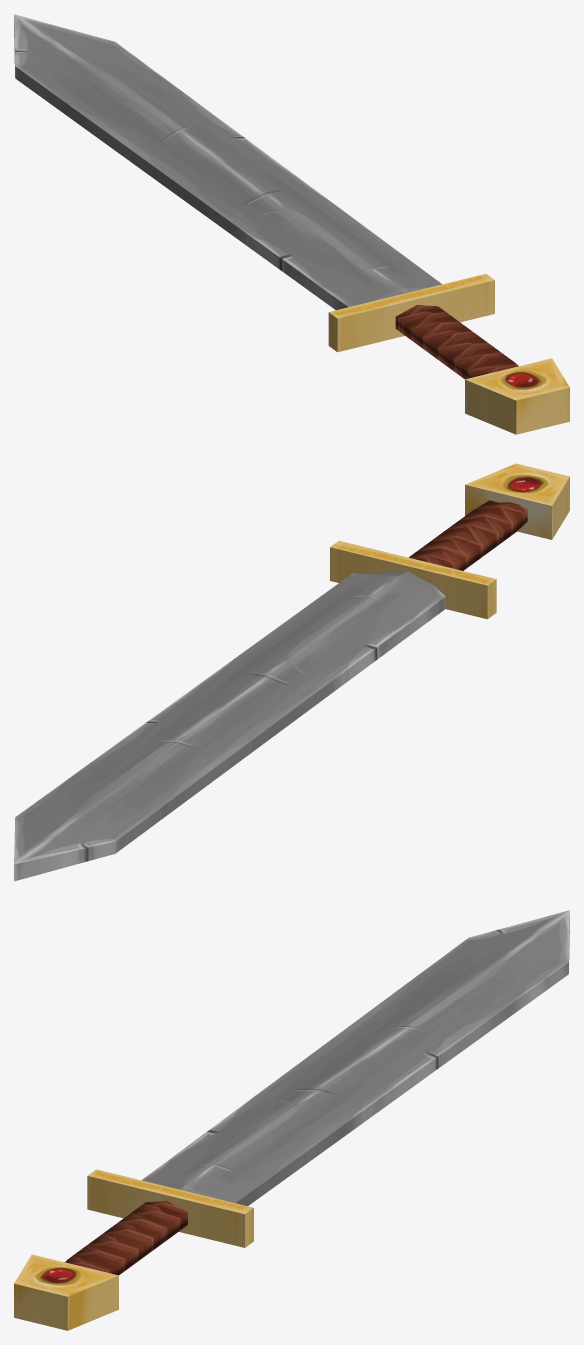
File: sword.fbx
3 views of the same model, one above another, from view 1: azimuth 30°, elevation 25°; view 2: azimuth 150°, elevation 25°; view 3: azimuth 330°, elevation 25° (orthographic).
Visible parts, largest first — view 1: sword; view 2: sword; view 3: sword.
Boxes of the visible parts, x1,y1,x2,y2 form: sword: [14, 14, 569, 434]; sword: [14, 463, 569, 881]; sword: [14, 910, 569, 1330].
Size of the model in its own units: 2.22 by 0.4937 by 12.9.
